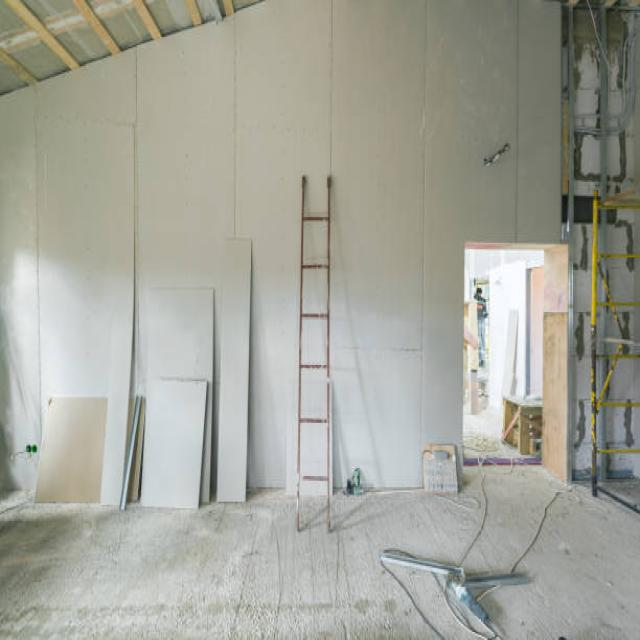floor: (0, 464, 640, 640), (463, 397, 541, 465)
